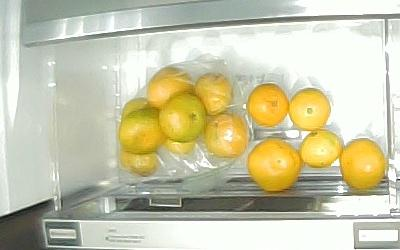tangerine: (247, 139, 300, 192), (340, 138, 386, 192), (119, 107, 167, 154), (158, 95, 207, 141), (288, 89, 332, 129), (299, 129, 343, 169), (248, 84, 288, 127)
tangerine_vinyl: (204, 112, 250, 158), (148, 65, 192, 108), (194, 73, 234, 115), (119, 150, 159, 177), (122, 98, 154, 119), (164, 138, 196, 154)
